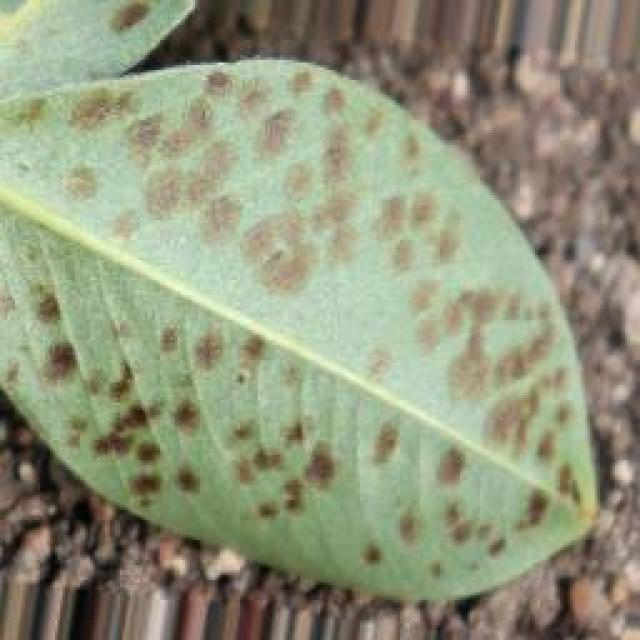Whitefly: (0, 6, 605, 640)
